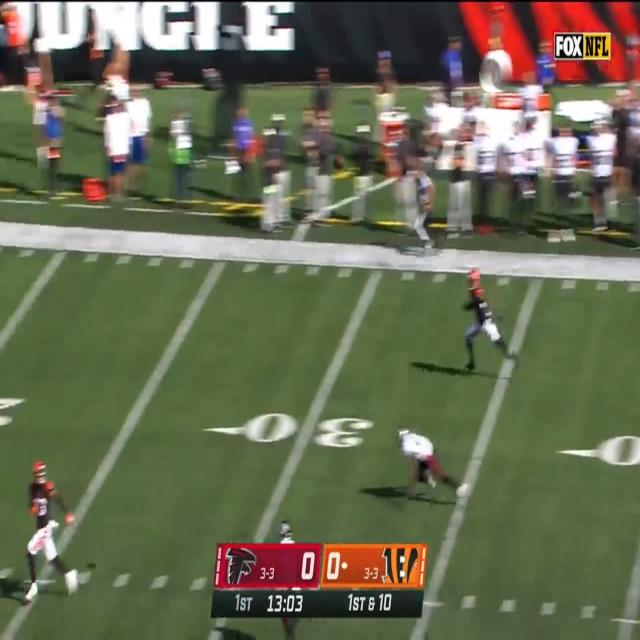Ball: (335, 155, 344, 170)
